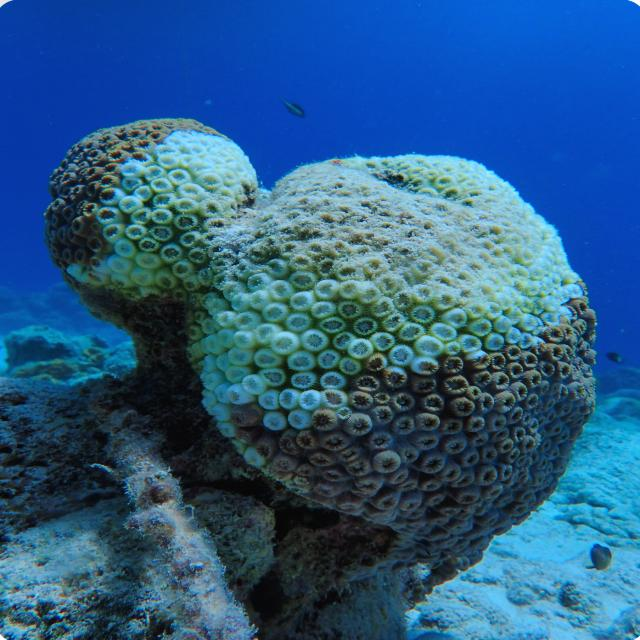Coral: (42, 116, 600, 603)
